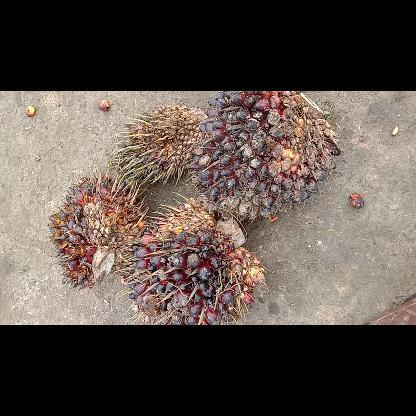Kurang masak: (194, 91, 340, 221), (128, 204, 266, 324)
TBS abnormal: (111, 106, 207, 184)
TBS masak: (50, 176, 142, 286)
